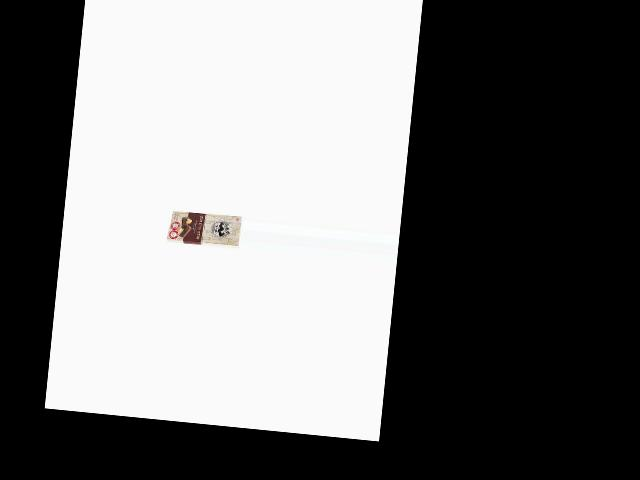chocolate: (164, 208, 242, 254)
